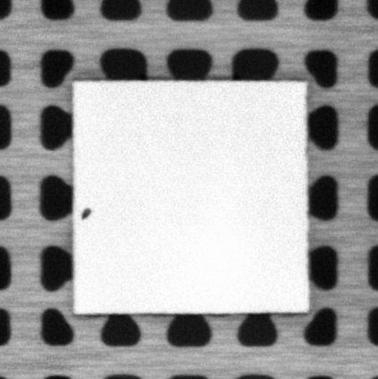DIE_INK: (78, 205, 93, 221)
